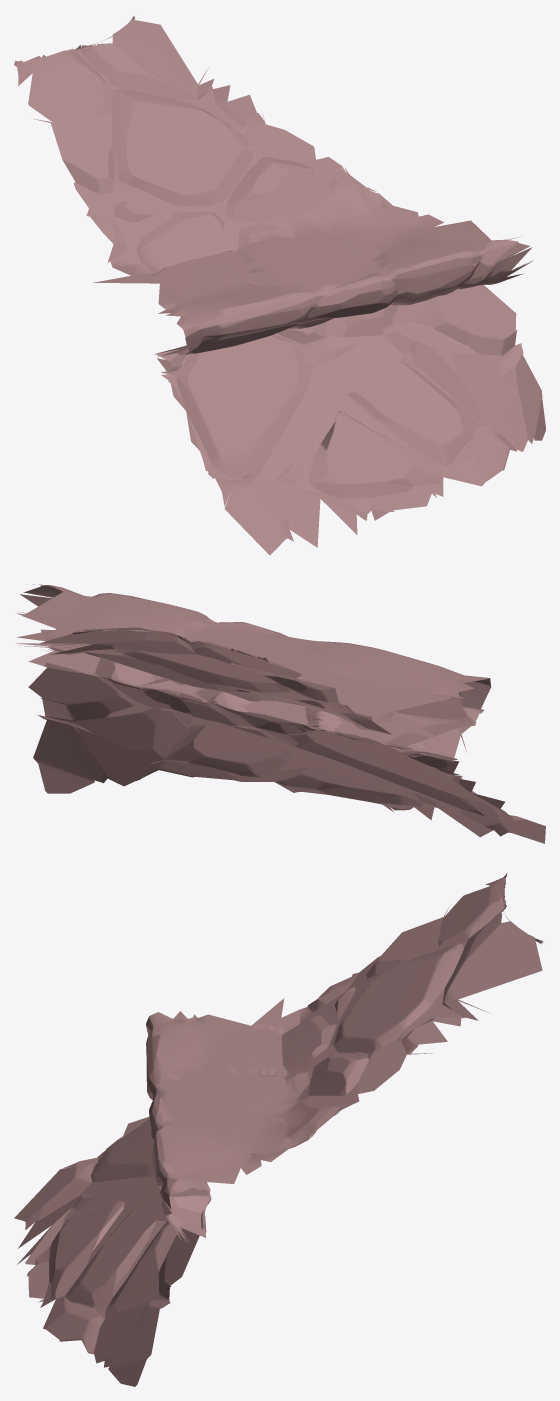
The model's file is plateau.fbx_Rock_Plateau_022LODs.fbx.
The picture shows the model from 3 angles, top to bottom: view 1: azimuth 30°, elevation 25°; view 2: azimuth 150°, elevation 25°; view 3: azimuth 270°, elevation 25°; orthographic projection. The views are drawn at different scales.
Parts seen in each view (by area): view 1: Rock Plateau.022_LOD0; view 2: Rock Plateau.022_LOD0; view 3: Rock Plateau.022_LOD0.
Boxes of the visible parts, x1,y1,x2,y2 form: Rock Plateau.022_LOD0: [14, 16, 545, 555]; Rock Plateau.022_LOD0: [16, 584, 545, 843]; Rock Plateau.022_LOD0: [14, 873, 543, 1386].
Size of what is drawn, in the model's own units: 3799 by 3099 by 4337.
